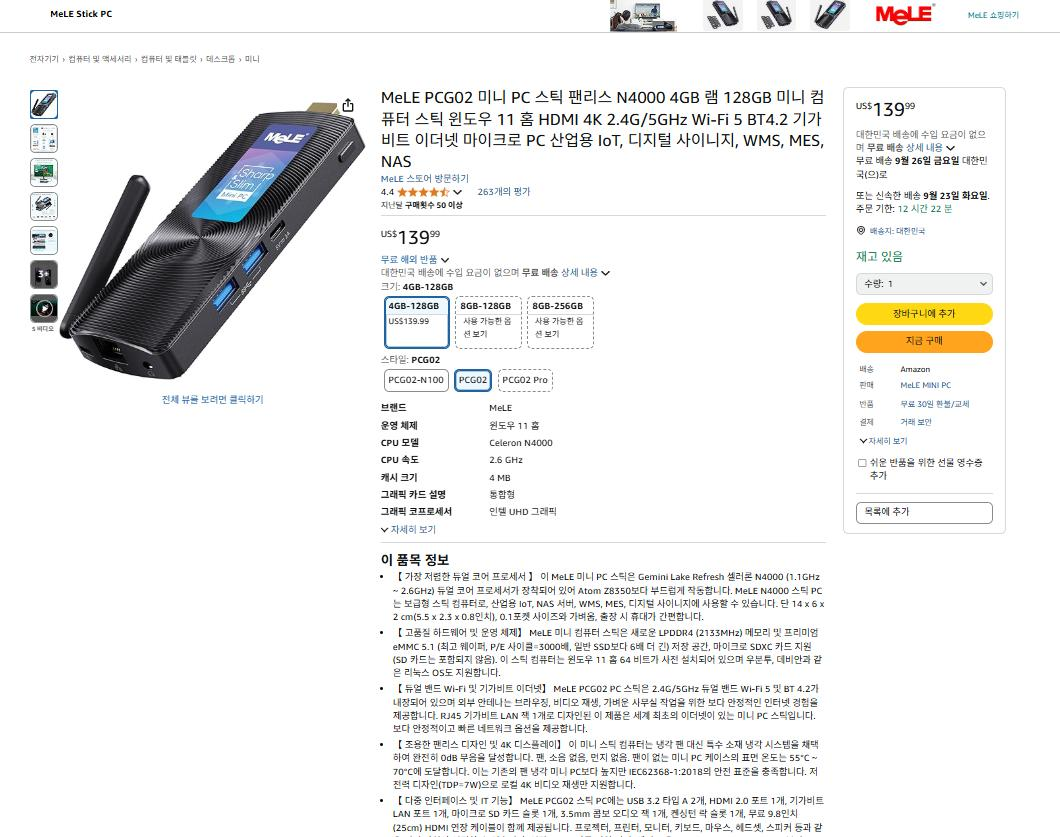button: (378, 291, 455, 351), (453, 290, 526, 351), (528, 293, 598, 356), (858, 268, 1001, 295), (861, 328, 994, 355), (856, 301, 991, 325), (155, 391, 269, 411), (491, 365, 560, 396), (381, 366, 451, 394), (854, 223, 933, 246), (898, 396, 976, 418), (375, 170, 478, 185), (960, 5, 1028, 26), (446, 368, 495, 396), (560, 260, 615, 284), (379, 250, 458, 266), (378, 521, 443, 539), (478, 181, 536, 201), (29, 294, 63, 328), (29, 225, 63, 256), (903, 138, 961, 156), (28, 123, 59, 156), (28, 192, 61, 222), (856, 433, 908, 451), (30, 158, 60, 188), (31, 89, 60, 120), (34, 259, 61, 291), (899, 380, 956, 395), (896, 416, 938, 434), (338, 94, 360, 115), (454, 186, 465, 201)
checkbox: (852, 451, 990, 491)
input_field: (851, 496, 1003, 530)
popup: (0, 0, 950, 35)
